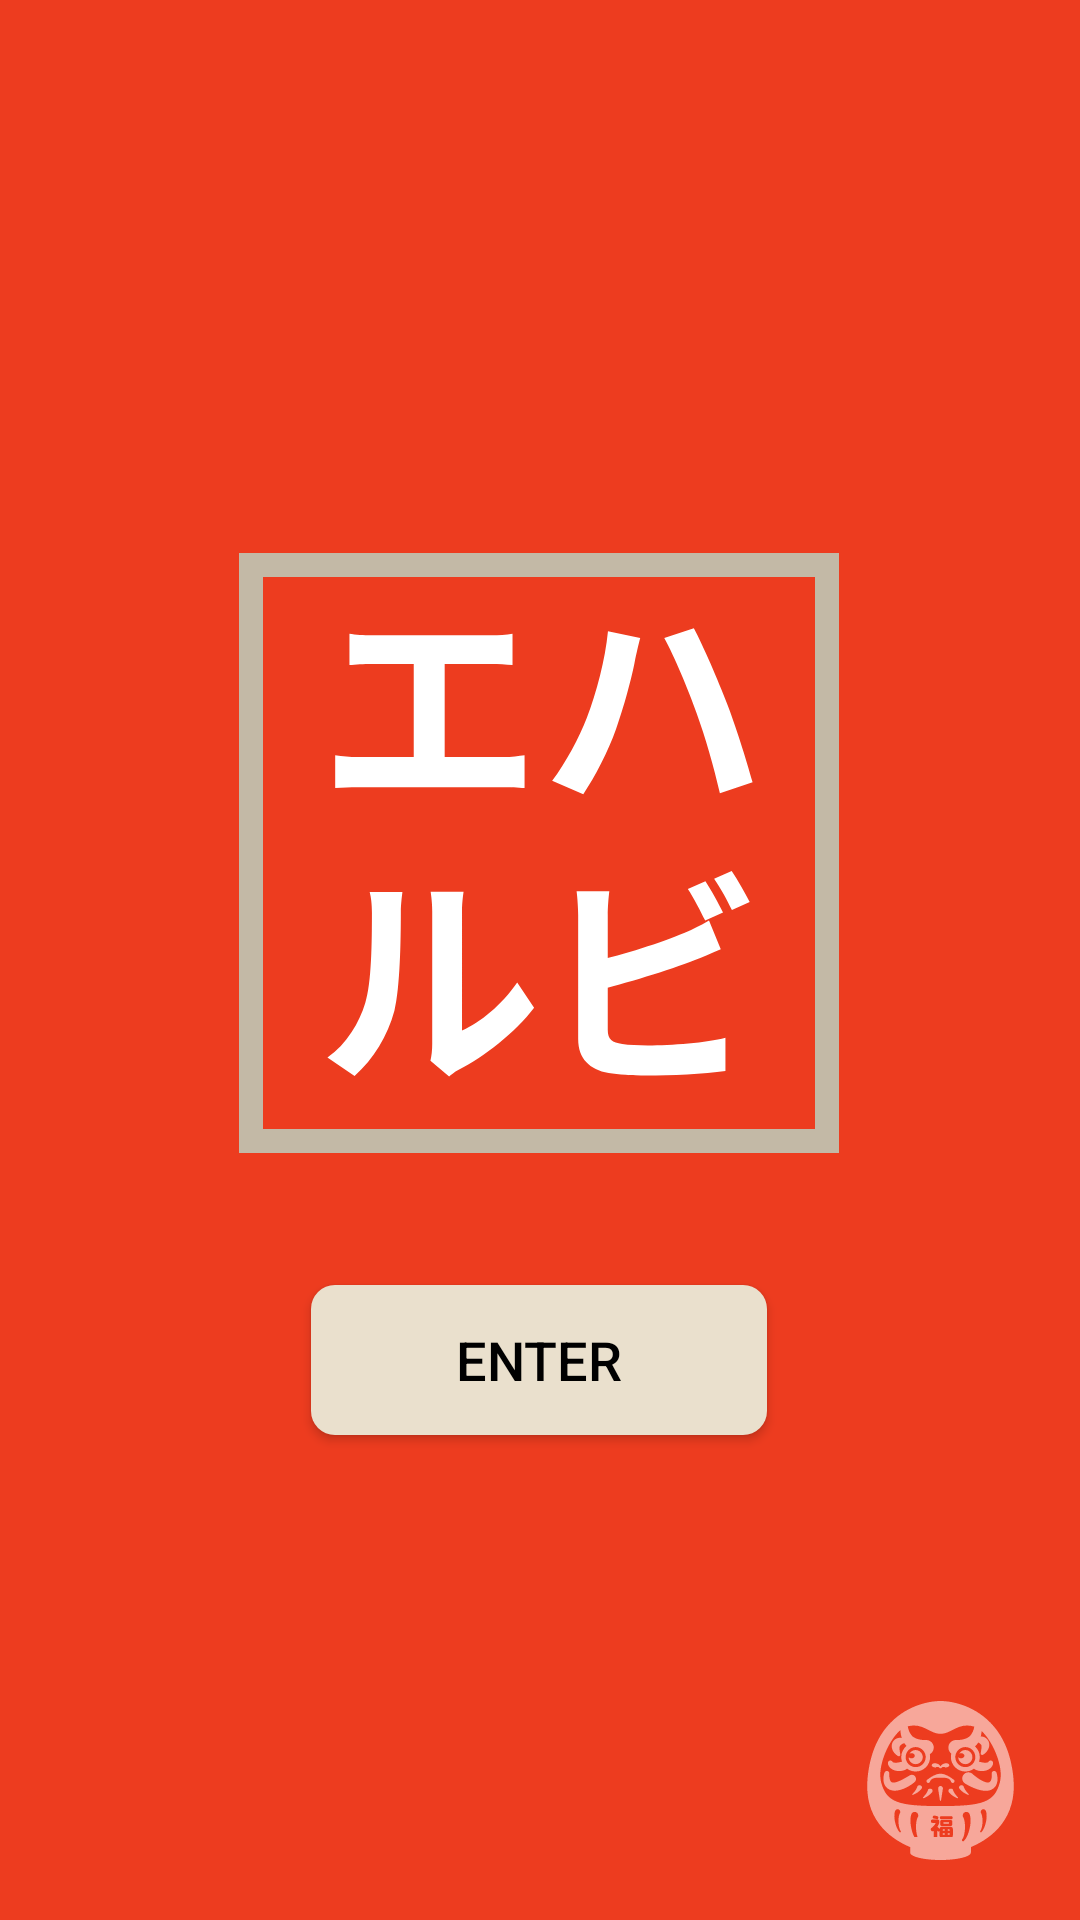

Screen size 1080 × 1920. Icon name, then its center in pixels as (x=x, y=y):
daruma doll free: (x=940, y=1780)
